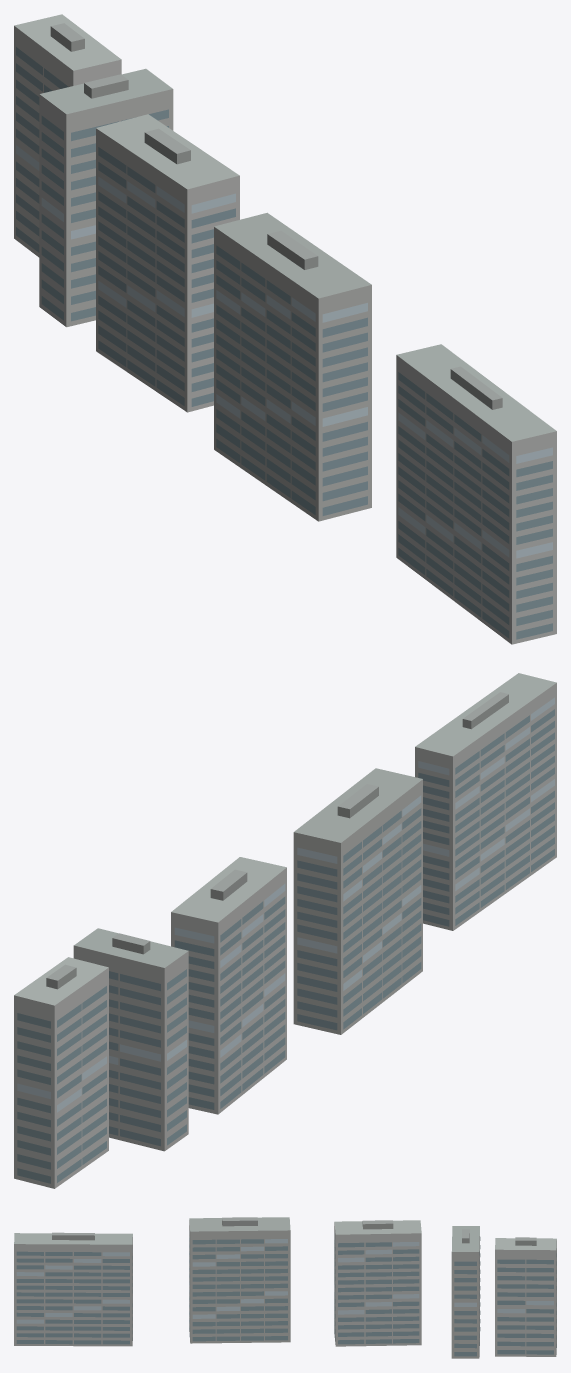
Rendered from apt-a15722203.glb.
The picture shows the model from 3 angles, top to bottom: view 1: azimuth 30°, elevation 25°; view 2: azimuth 150°, elevation 25°; view 3: azimuth 270°, elevation 25°; orthographic projection. The views are drawn at different scales.
Visible parts, largest first — view 1: apt-a15722203; view 2: apt-a15722203; view 3: apt-a15722203.
Boxes of the visible parts, box(x1,y1,x2,y2) form: apt-a15722203: box(14, 14, 556, 644); apt-a15722203: box(14, 673, 556, 1188); apt-a15722203: box(14, 1217, 556, 1358).
Bounding box in the file's own units: 23.97 × 44 × 185.
